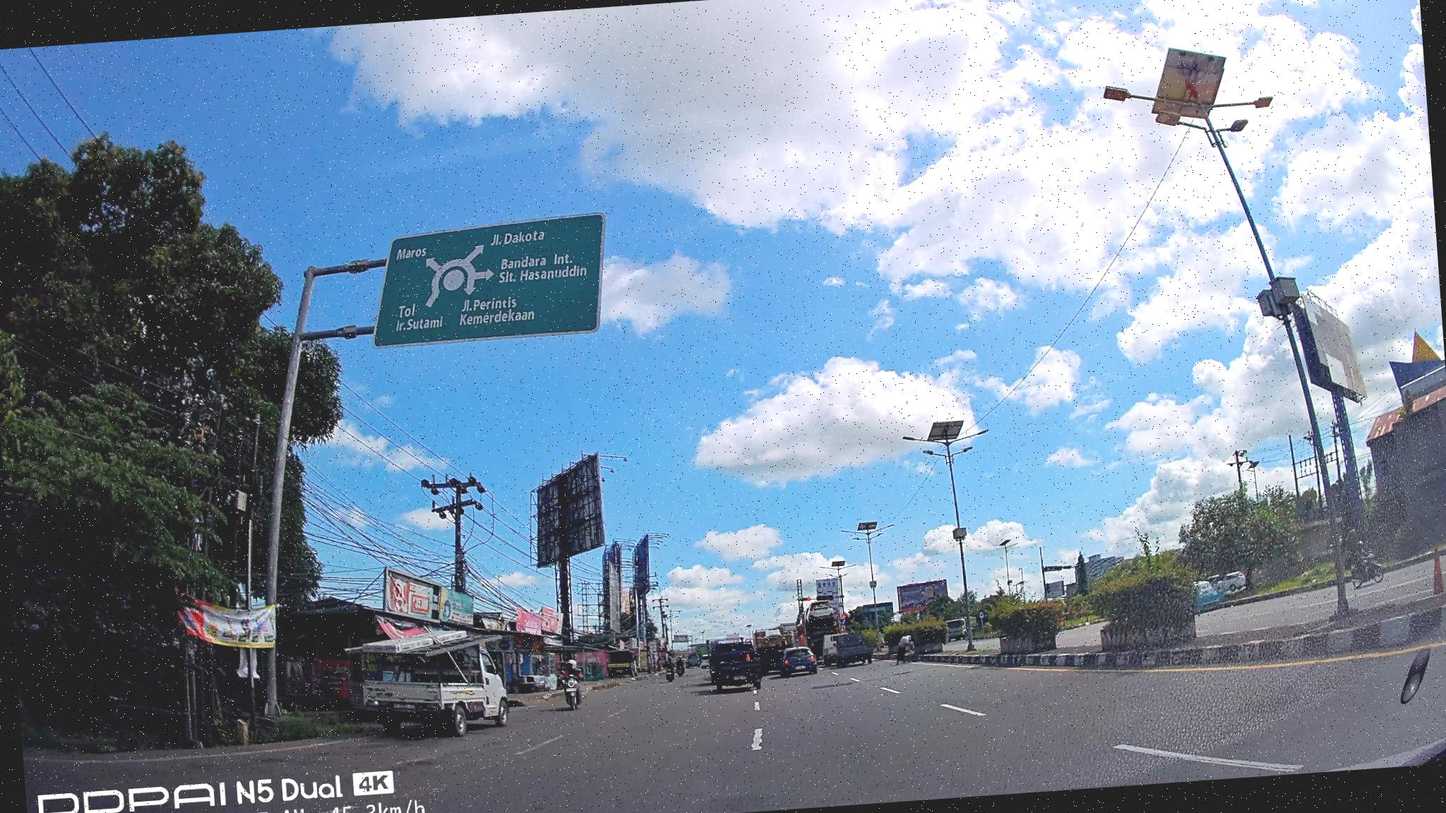rambu_teks: (364, 211, 614, 350)
